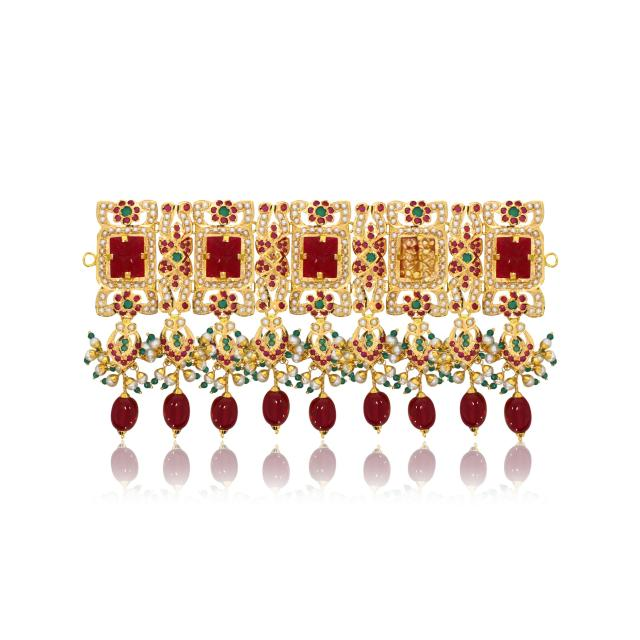missing gem: (399, 238, 435, 278)
